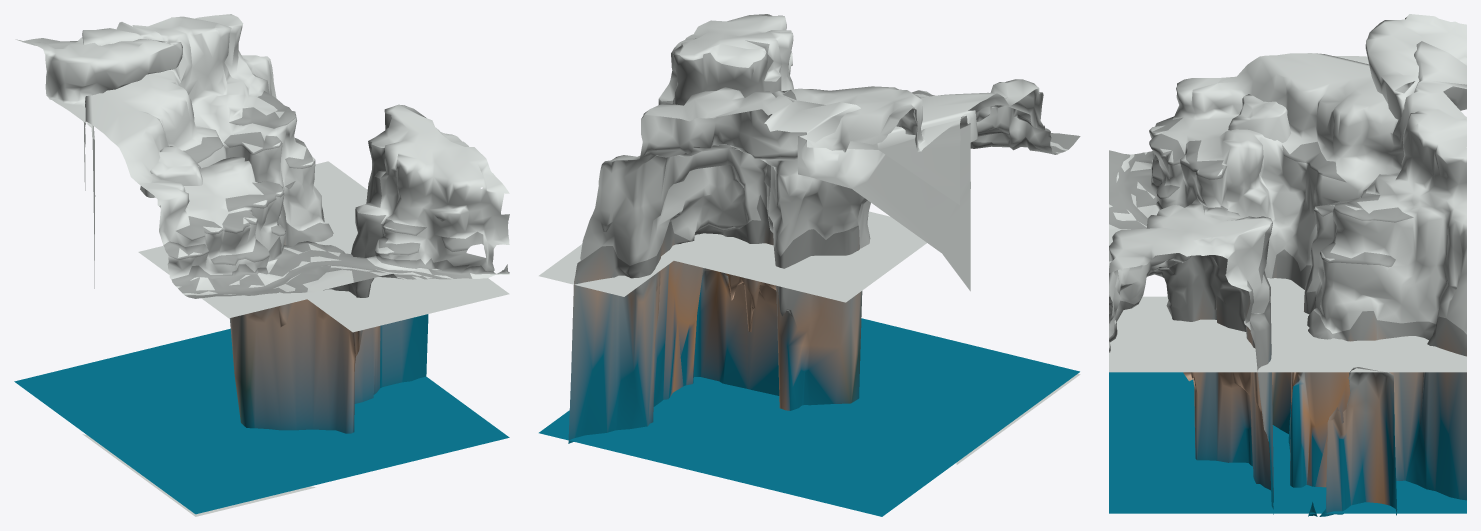
3 views of the same model, side by side, from view 1: azimuth 30°, elevation 25°; view 2: azimuth 150°, elevation 25°; view 3: azimuth 270°, elevation 25° (orthographic). The views are drawn at different scales.
Visible parts, largest first — view 1: G:\FFXIV-MapTools\exports\s1f6\bg\ffxiv\sea_s1\fld\s1f6\bgpl (×19); view 2: G:\FFXIV-MapTools\exports\s1f6\bg\ffxiv\sea_s1\fld\s1f6\bgpl (×13); view 3: G:\FFXIV-MapTools\exports\s1f6\bg\ffxiv\sea_s1\fld\s1f6\bgpl (×21).
Boxes of the visible parts, x1,y1,x2,y2 form: G:\FFXIV-MapTools\exports\s1f6\bg\ffxiv\sea_s1\fld\s1f6\bgpl (×19): [14, 14, 509, 516]; G:\FFXIV-MapTools\exports\s1f6\bg\ffxiv\sea_s1\fld\s1f6\bgpl (×13): [539, 14, 1079, 516]; G:\FFXIV-MapTools\exports\s1f6\bg\ffxiv\sea_s1\fld\s1f6\bgpl (×21): [1109, 14, 1466, 516].
Bounding box in the file's own units: 128 × 139 × 128.
